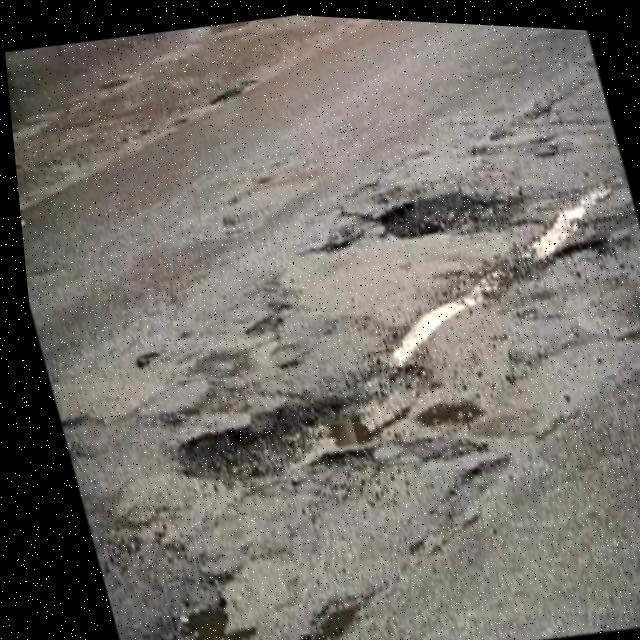Pothole: (60, 412, 303, 640), (166, 342, 517, 490), (369, 178, 528, 245)
